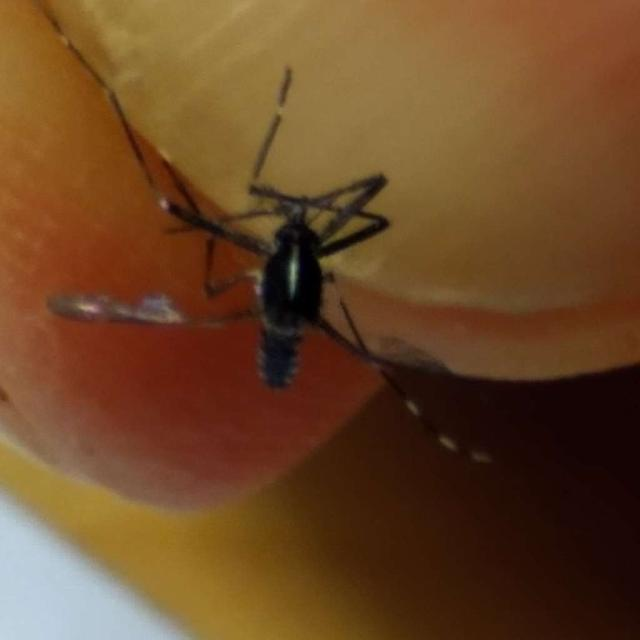albopictus: (48, 26, 481, 441)
